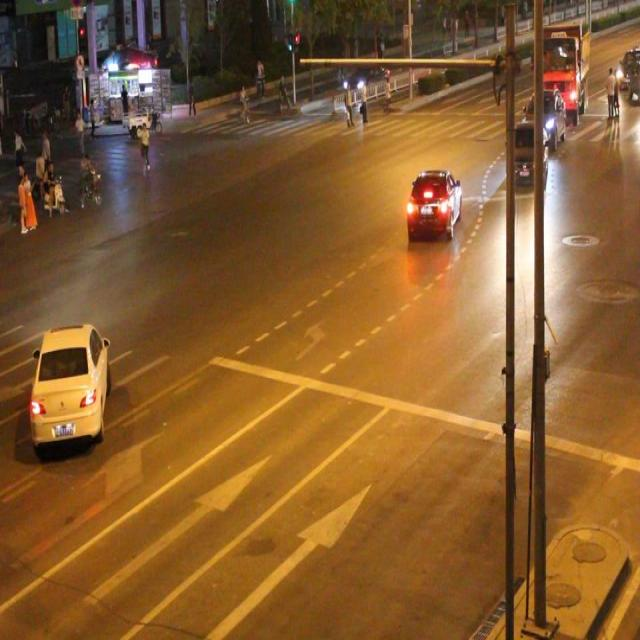car: (31, 321, 108, 442), (404, 167, 461, 241), (506, 122, 546, 186)
